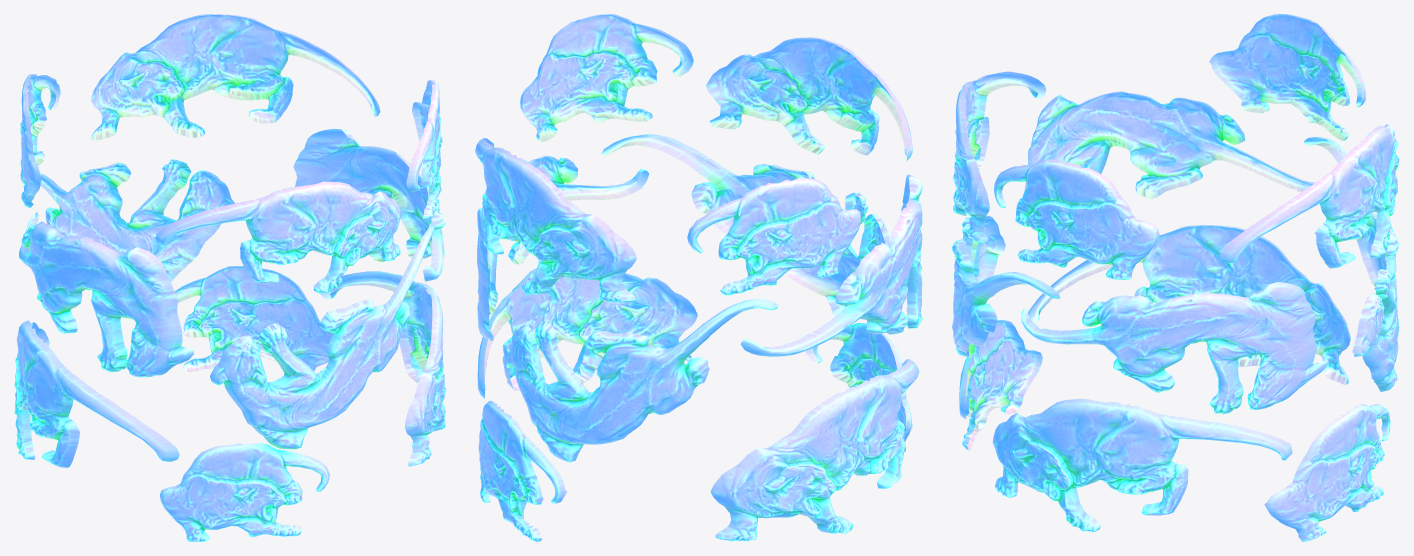
File: SM_CylinderSculpture.fbx
3 renders of one model, left to right at view 1: azimuth 30°, elevation 25°; view 2: azimuth 150°, elevation 25°; view 3: azimuth 270°, elevation 25°, orthographic. The views are drawn at different scales.
Parts seen in each view (by area): view 1: SM_CylinderSculpture_LOD0; view 2: SM_CylinderSculpture_LOD0; view 3: SM_CylinderSculpture_LOD0.
Part boxes in pixels (left/top/right/bottom): SM_CylinderSculpture_LOD0: left=14, top=14, right=446, bottom=541; SM_CylinderSculpture_LOD0: left=475, top=14, right=922, bottom=541; SM_CylinderSculpture_LOD0: left=951, top=14, right=1399, bottom=541.
Size of the model in its own units: 153 by 153 by 145.
